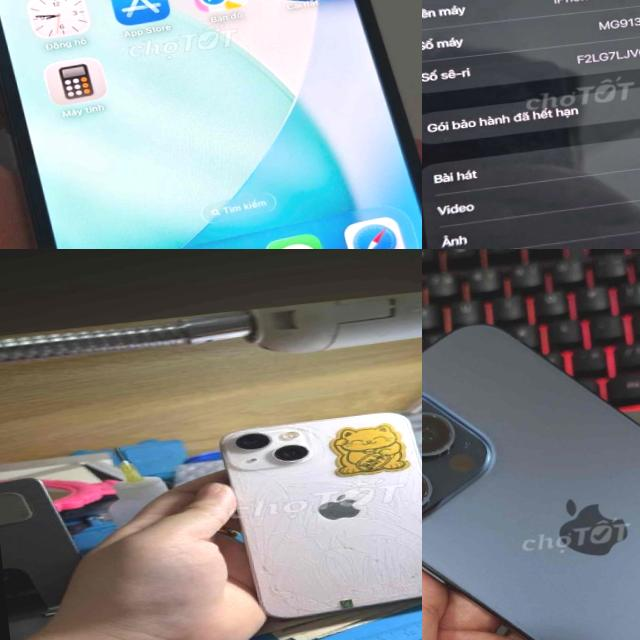physical_damage: (304, 536, 376, 610), (344, 474, 422, 542), (230, 469, 299, 541), (250, 541, 314, 616), (294, 463, 359, 536), (364, 529, 422, 597), (267, 418, 350, 448)
scratch: (422, 400, 464, 522)
